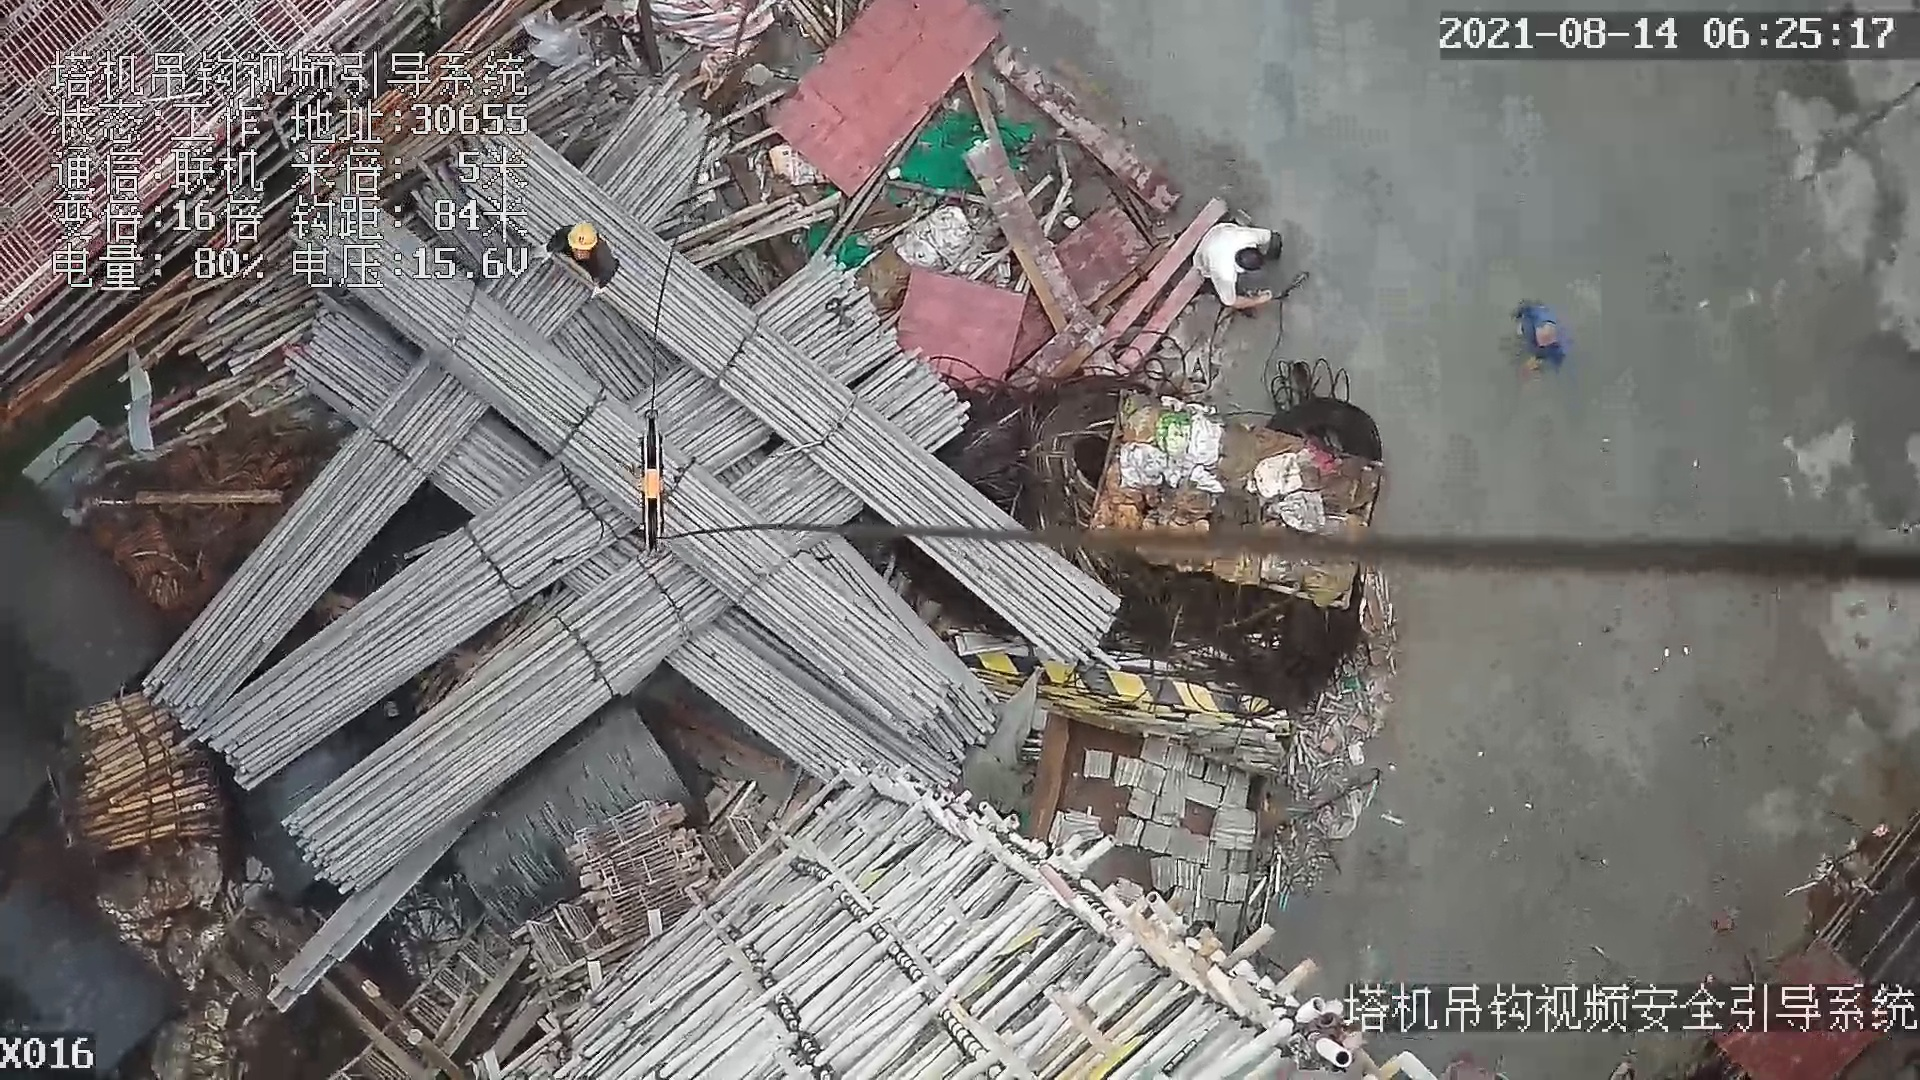helmet: (565, 219, 599, 253)
hook: (637, 414, 683, 563)
person: (1195, 221, 1291, 314), (535, 224, 619, 297), (1499, 296, 1567, 374)
